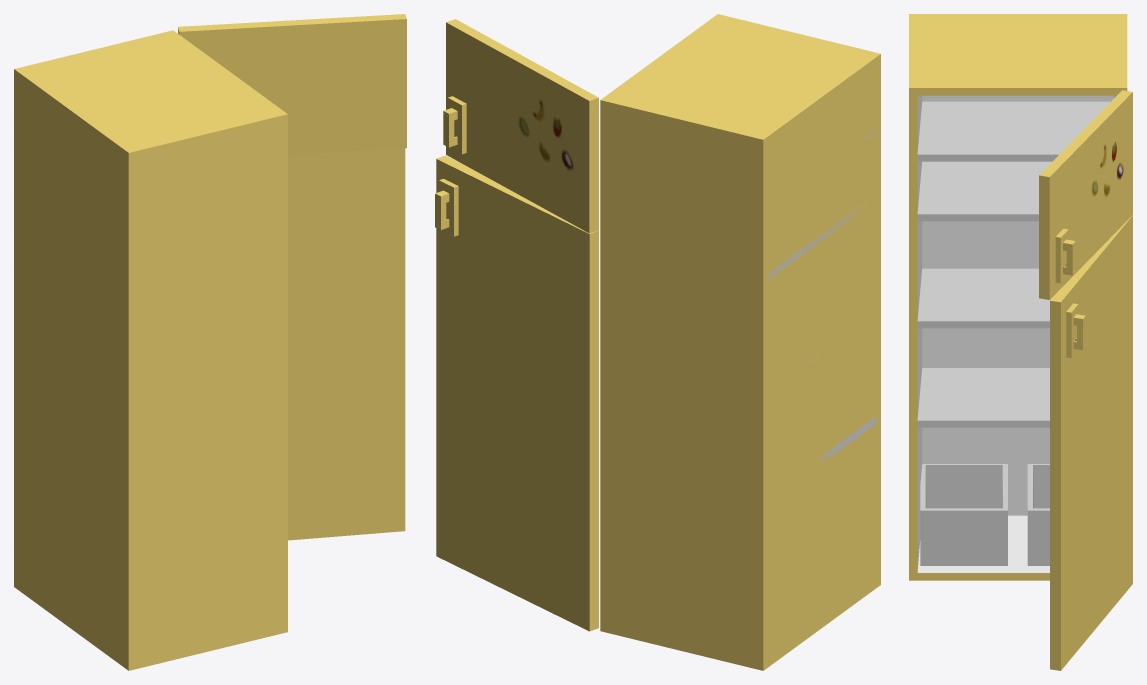
Rendered from NeveraAAA.fbx.
3 views of the same model, side by side, from view 1: azimuth 30°, elevation 25°; view 2: azimuth 150°, elevation 25°; view 3: azimuth 270°, elevation 25° (orthographic). The views are drawn at different scales.
Parts seen in each view (by area): view 1: Cube.001, Cube.002, Cube.005; view 2: Cube.001, Cube.002, Cube.005, Cube.006; view 3: Cube.001, Cube.006, Cube.002, Cube.005.
Boxes of the visible parts, box(x1,y1,x2,y2) form: Cube.001: box(14, 30, 287, 670); Cube.002: box(288, 148, 405, 540); Cube.005: box(178, 14, 406, 154); Cube.001: box(600, 14, 880, 670); Cube.002: box(435, 155, 598, 631); Cube.005: box(443, 19, 598, 233); Cube.006: box(768, 130, 876, 466); Cube.001: box(909, 14, 1127, 580); Cube.006: box(917, 101, 1110, 565); Cube.002: box(1050, 215, 1132, 670); Cube.005: box(1039, 90, 1132, 299).
Bounding box in the file's own units: 445 × 622 × 256.
Materials: 4 (4 with a texture image).
